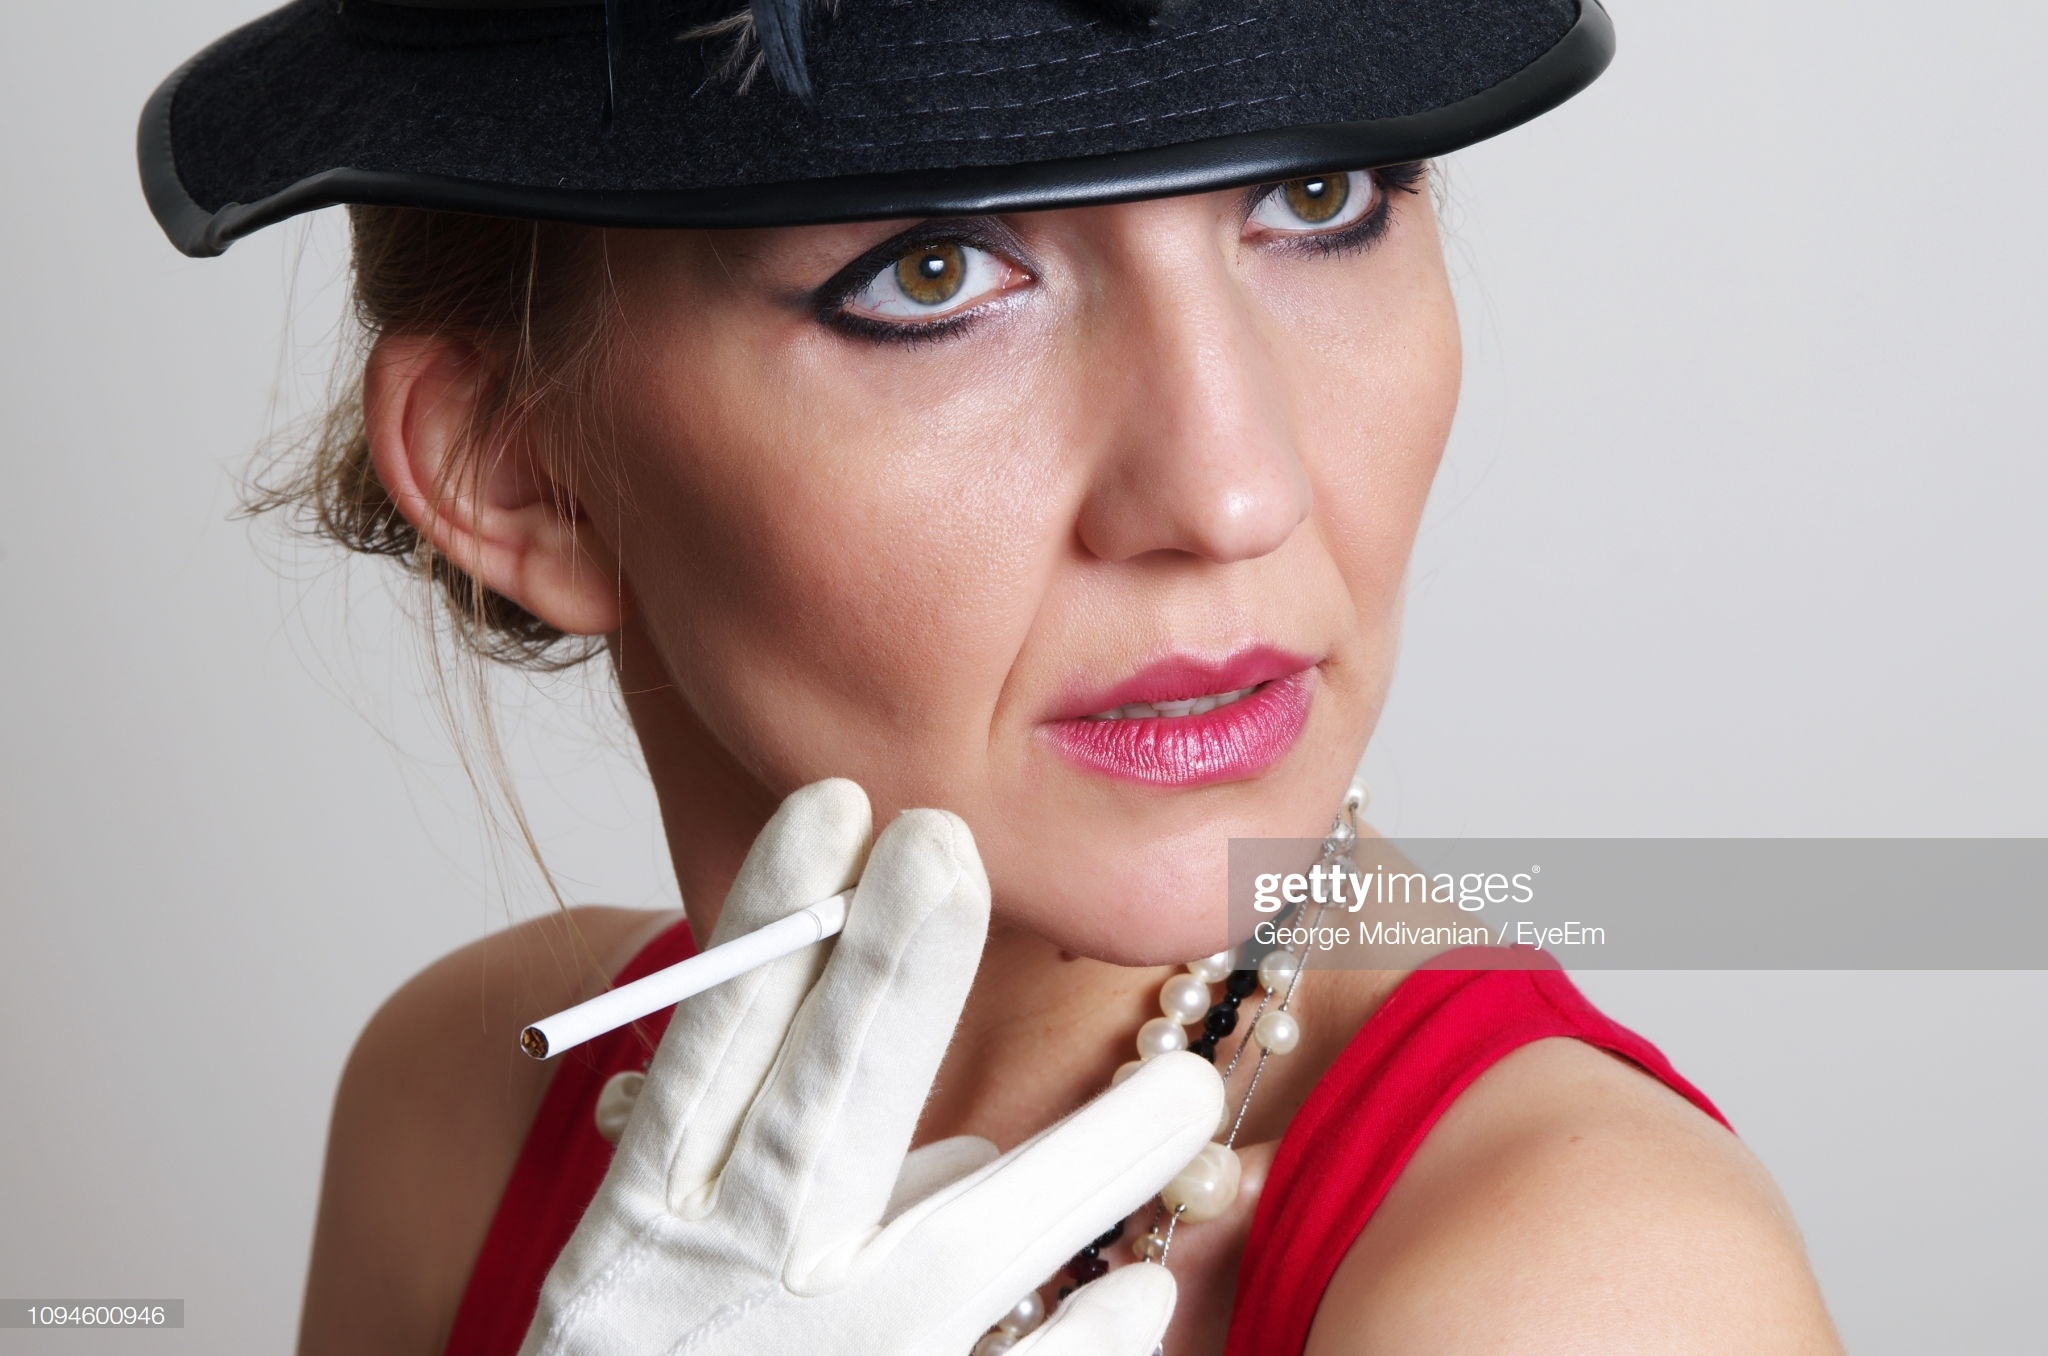sigaretta: (545, 854, 947, 1055)
